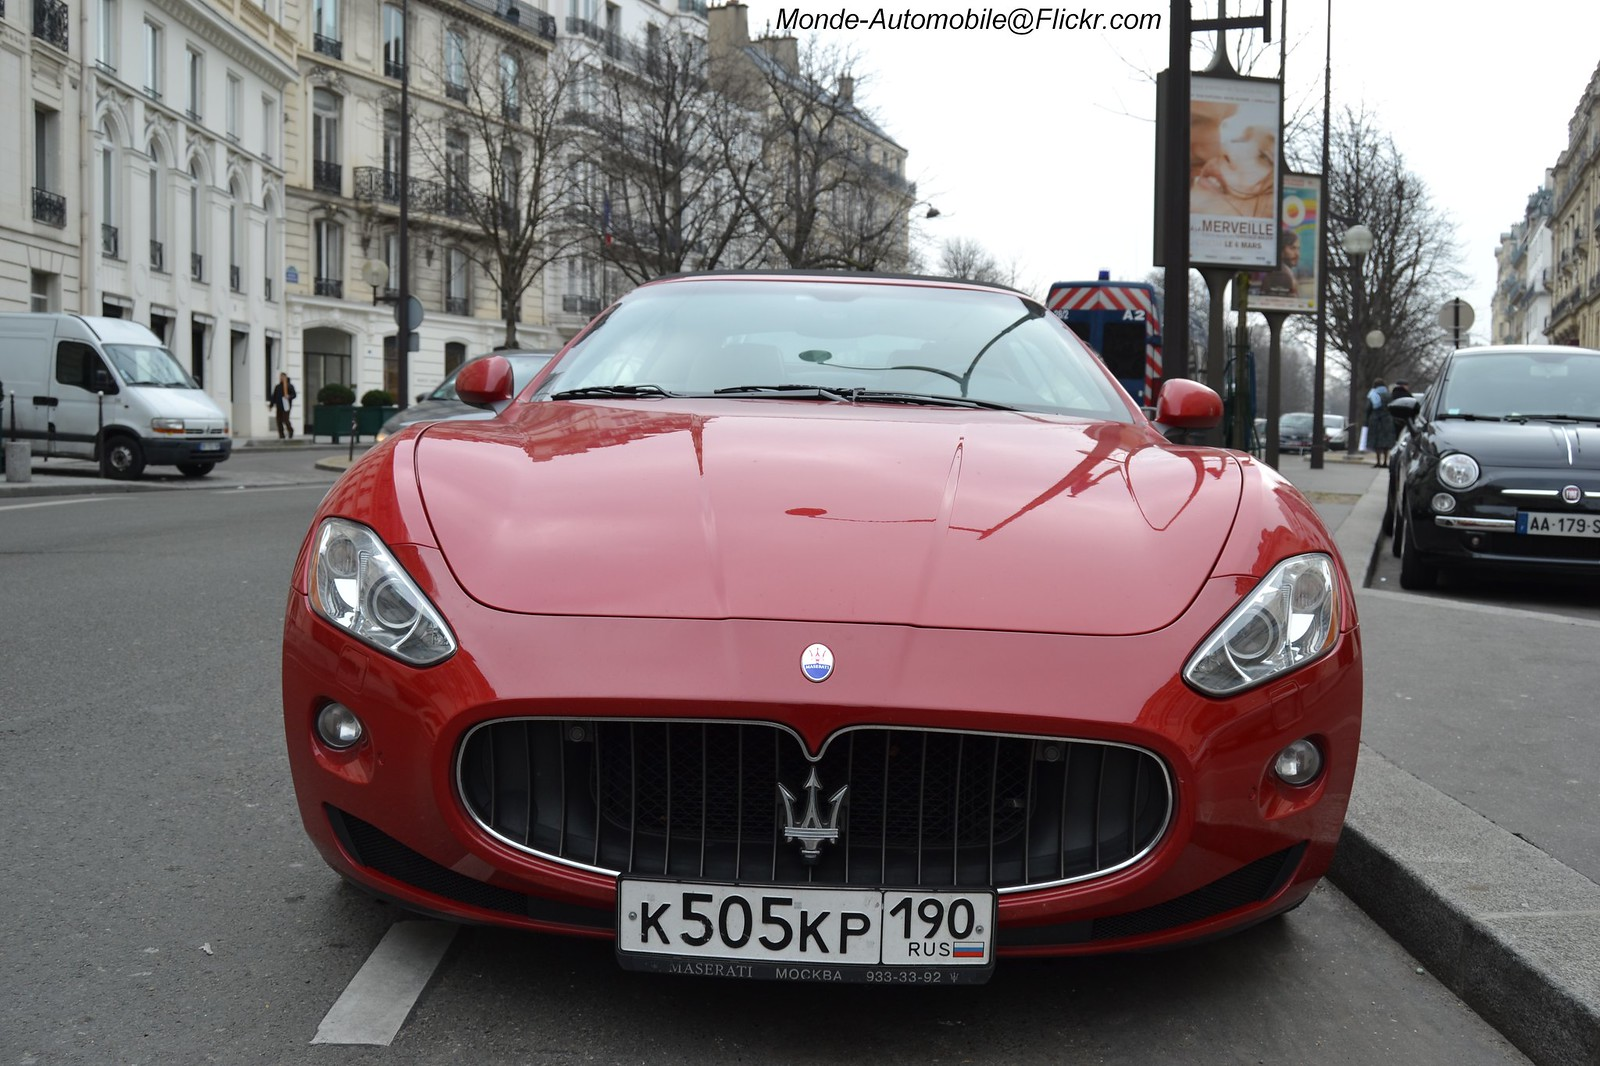car: (282, 481, 1348, 985)
plate: (615, 875, 997, 969)
